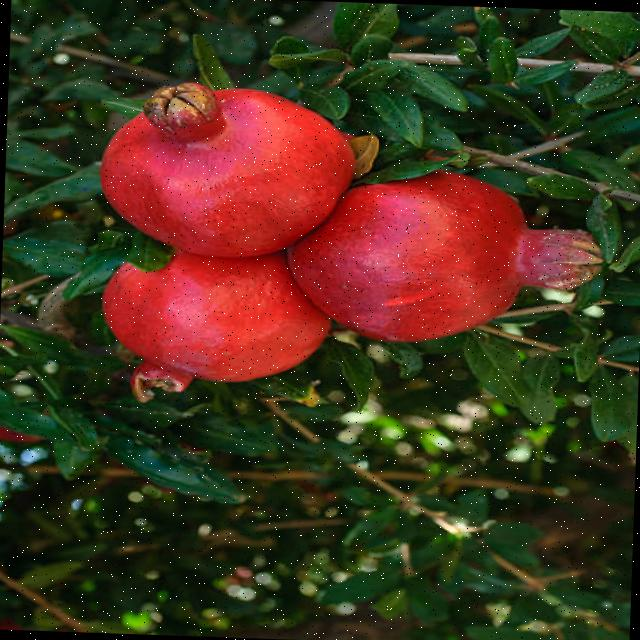Ripe: (286, 158, 608, 353), (90, 74, 360, 256), (89, 244, 308, 403)
